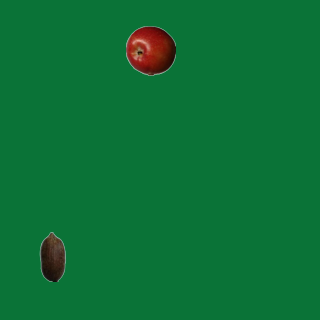Apple Braeburn: (125, 25, 175, 75)
Nut Pecan: (27, 231, 77, 281)
